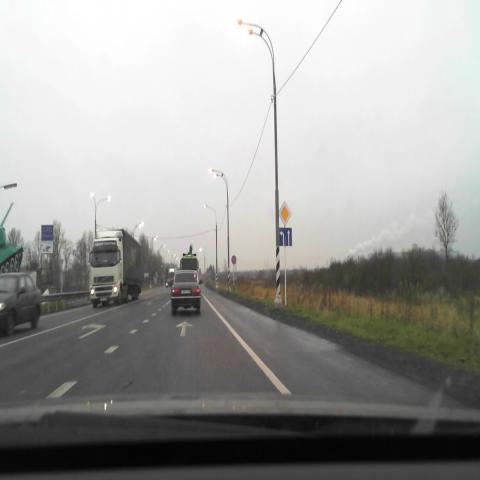5_15_2_2: (278, 228, 291, 246)
